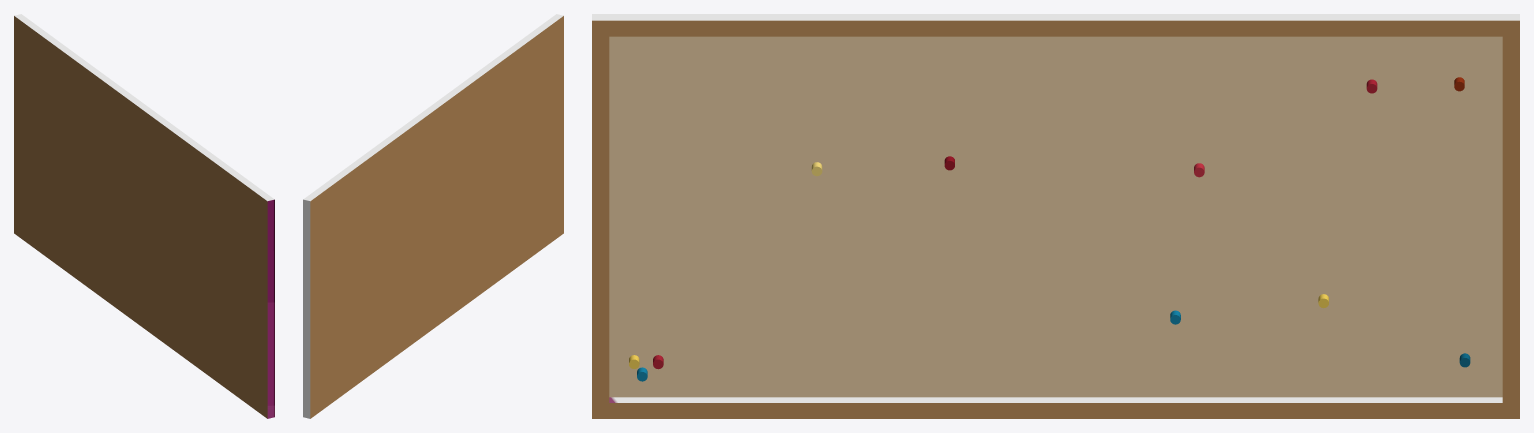
The model's file is CardBoard_mb.fbx.
3 views of the same model, side by side, from view 1: azimuth 30°, elevation 25°; view 2: azimuth 150°, elevation 25°; view 3: azimuth 270°, elevation 25° (orthographic). The views are drawn at different scales.
Parts seen in each view (by area): view 1: pCylinder49; view 2: pCylinder49; view 3: pCylinder49.
Boxes of the visible parts, bbox=[...] form: pCylinder49: bbox=[14, 14, 274, 418]; pCylinder49: bbox=[303, 14, 563, 418]; pCylinder49: bbox=[592, 14, 1519, 418].
Size of the model in its own units: 3.54 by 82.7 by 175.
